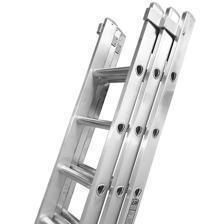Hand: (45, 19, 104, 127), (74, 60, 121, 189), (178, 72, 216, 196), (135, 91, 174, 198), (67, 117, 112, 196), (115, 75, 143, 199), (5, 91, 30, 198), (30, 124, 65, 187), (159, 34, 191, 101), (9, 18, 37, 86), (147, 139, 181, 193)
